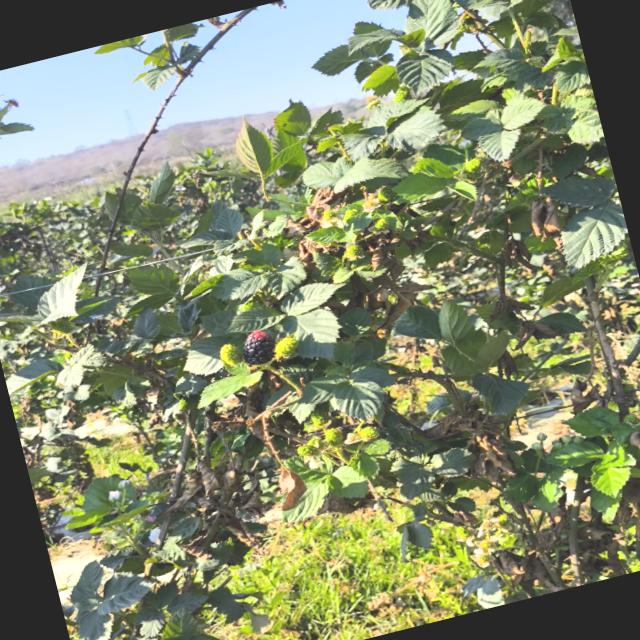marron: (243, 330, 274, 364)
verde: (219, 343, 243, 367), (274, 335, 298, 358)
